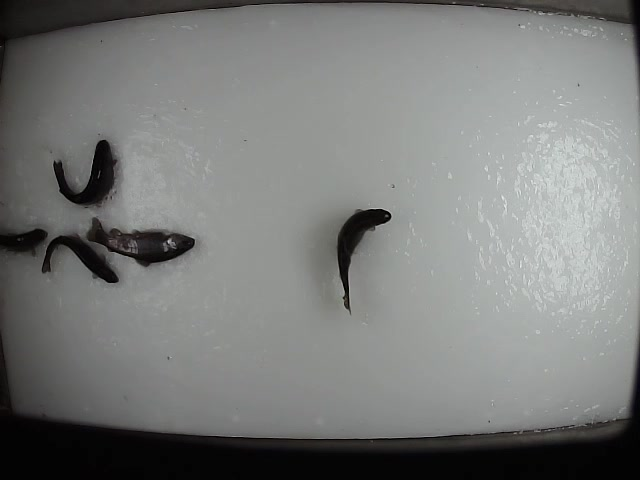Fish: (336, 207, 392, 317), (86, 214, 196, 268), (52, 139, 118, 206), (41, 234, 119, 284)
